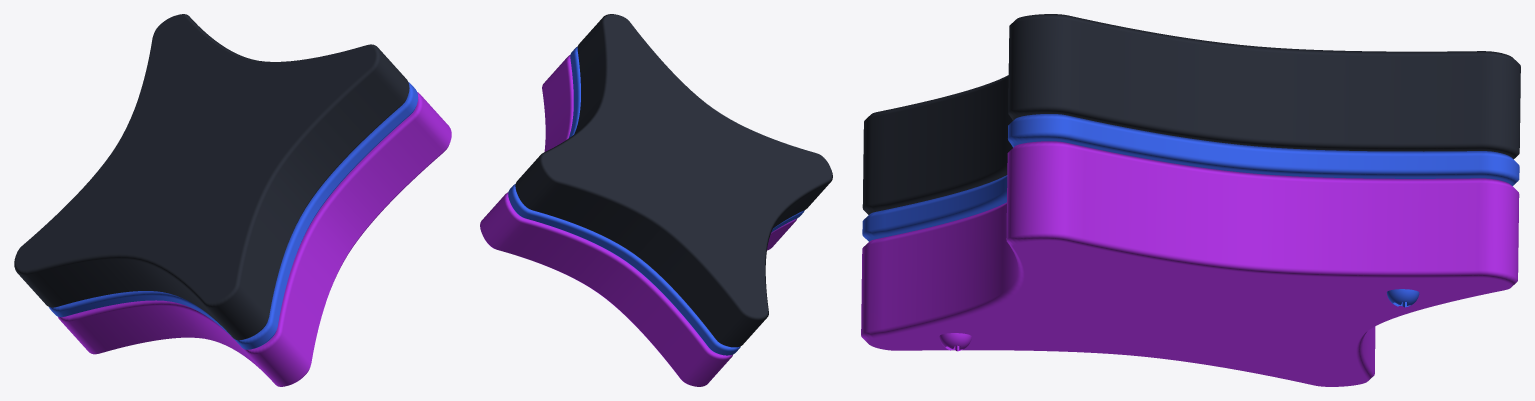
Rendered from frame.gltf.
The picture shows the model from 3 angles, left to right: view 1: azimuth 30°, elevation 25°; view 2: azimuth 150°, elevation 25°; view 3: azimuth 270°, elevation 25°; orthographic projection. The views are drawn at different scales.
Visible parts, largest first — view 1: Shape (×3); view 2: Shape (×3); view 3: Shape (×3).
Boxes of the visible parts, box(x1,y1,x2,y2) form: Shape (×3): box(14, 14, 451, 386); Shape (×3): box(480, 14, 832, 386); Shape (×3): box(861, 14, 1520, 386).
Size of the model in its own units: 2 by 1.78 by 2.01.
